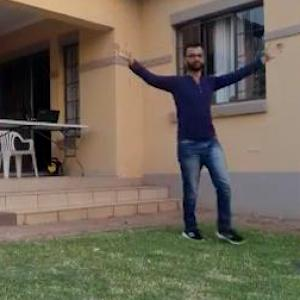takeoff: (105, 48, 276, 240)
